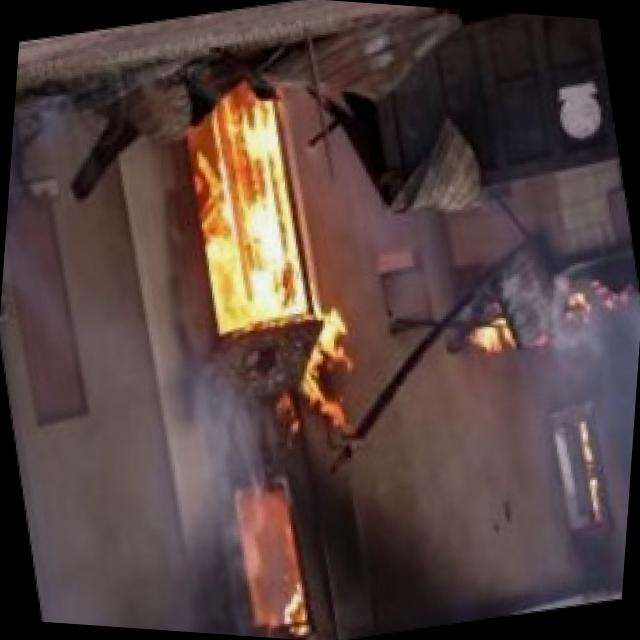fire: (162, 86, 340, 352), (205, 468, 334, 640)
